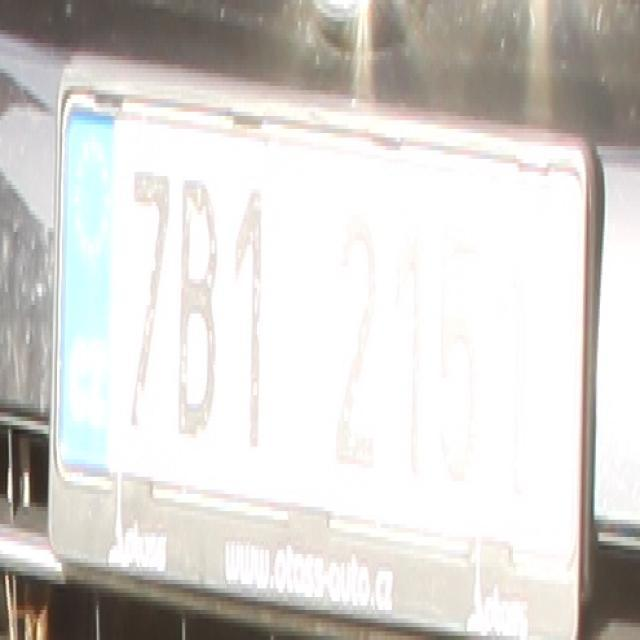1: (232, 176, 264, 451), (396, 223, 422, 494)
2: (334, 210, 380, 490)
5: (436, 224, 482, 486)
7: (122, 168, 170, 446)
B: (176, 163, 218, 447)
